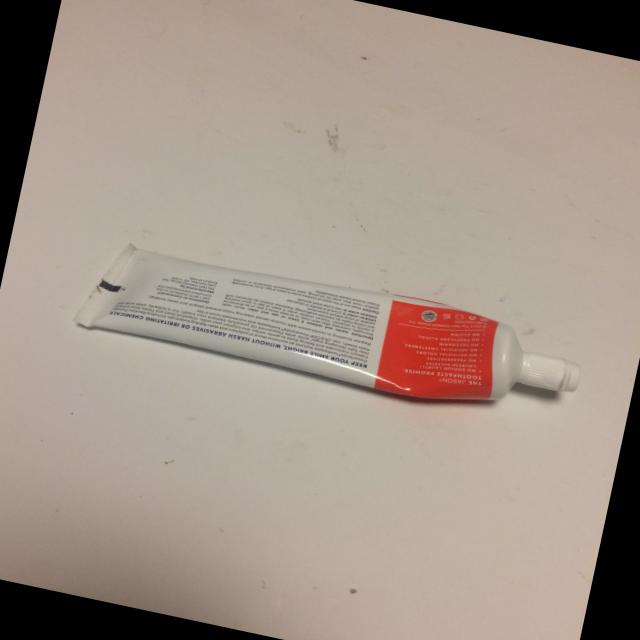Plastic: (36, 208, 612, 482)
